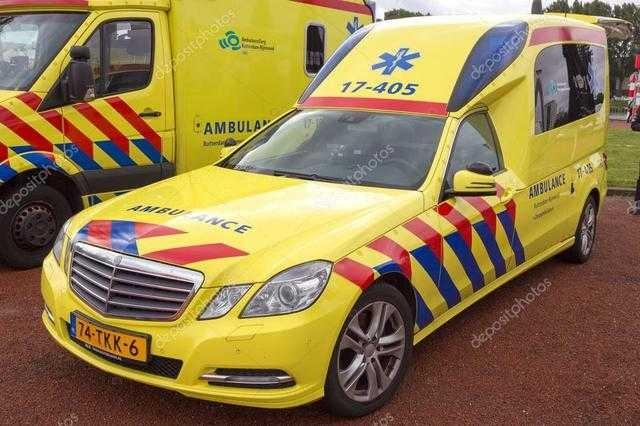car: (38, 10, 633, 418), (0, 0, 377, 269)
